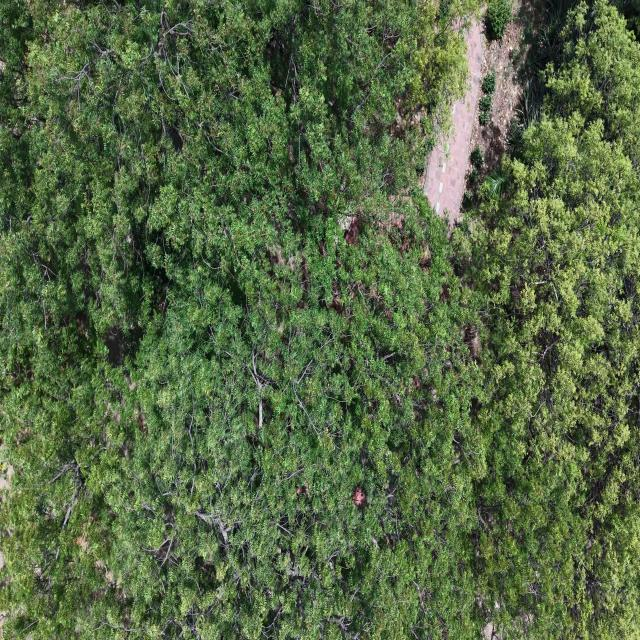DRY_AREA: (423, 0, 540, 229), (471, 0, 541, 183), (424, 22, 483, 229)
VEGETATION_TREE: (0, 0, 639, 639), (0, 0, 481, 639), (457, 2, 639, 639), (485, 0, 512, 40), (613, 0, 639, 39), (479, 70, 495, 125), (484, 169, 508, 198), (469, 146, 483, 184), (479, 94, 492, 125), (482, 70, 496, 95), (470, 146, 483, 169), (462, 190, 474, 208), (470, 167, 479, 183)
